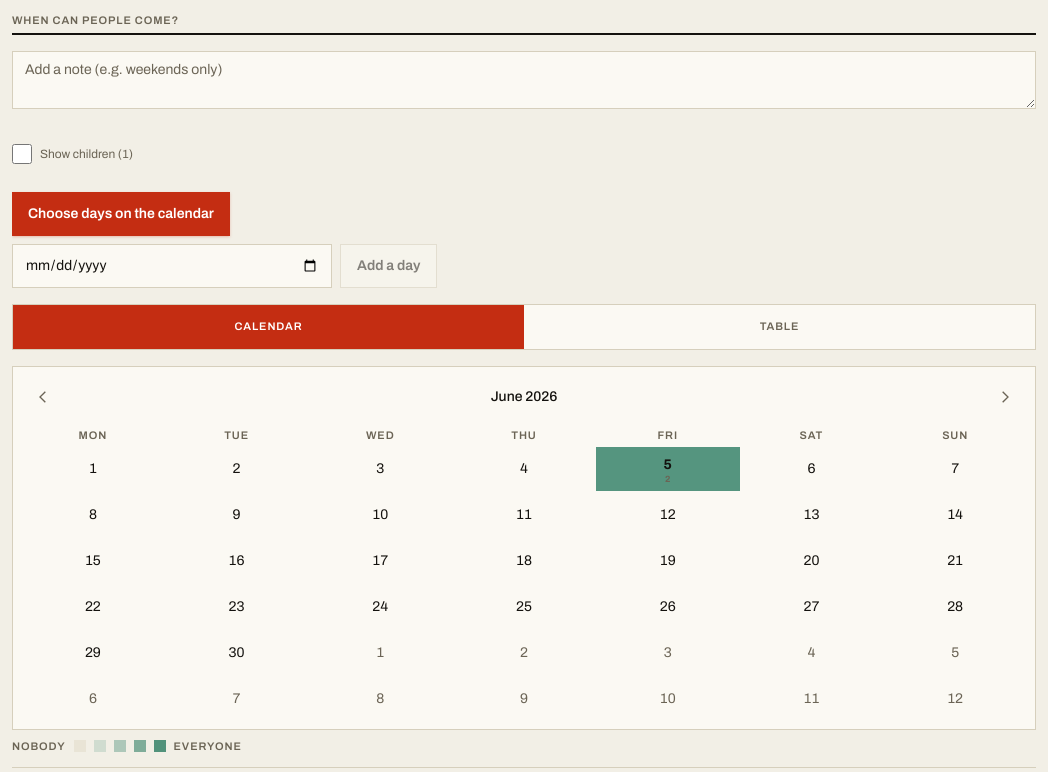
Scenario: dog participants › keeps the dog out of the availability matrix even when children are shown
Note: The matrix with the names lives in the table view.
What coordinates should you click on to do the following:
click the button "Table"
I would click on:
 (780, 326)
Its box is [524,304,1035,348].
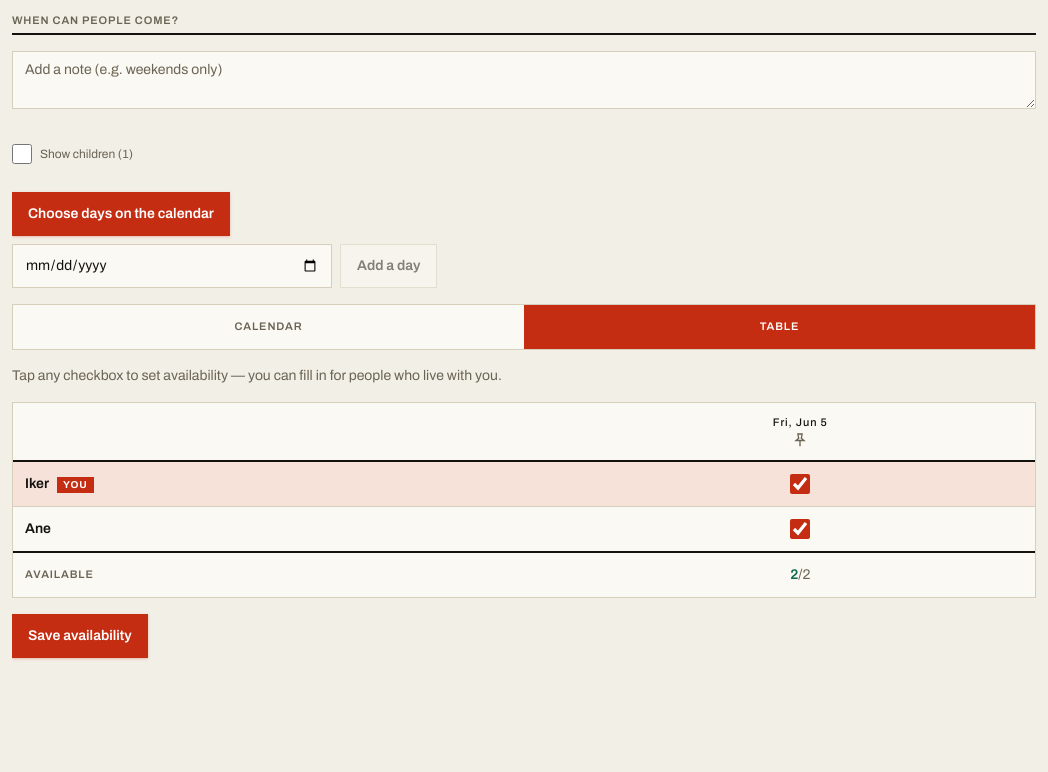
Check: the text "Nora" is not shown
Check: the text "Iker" is shown, box [25,476,49,491]
What coordinates should you click on to do the following:
click the checkbox labelled "Show children (1)"
I would click on:
 (22, 154)
Its box is [12,144,32,164].
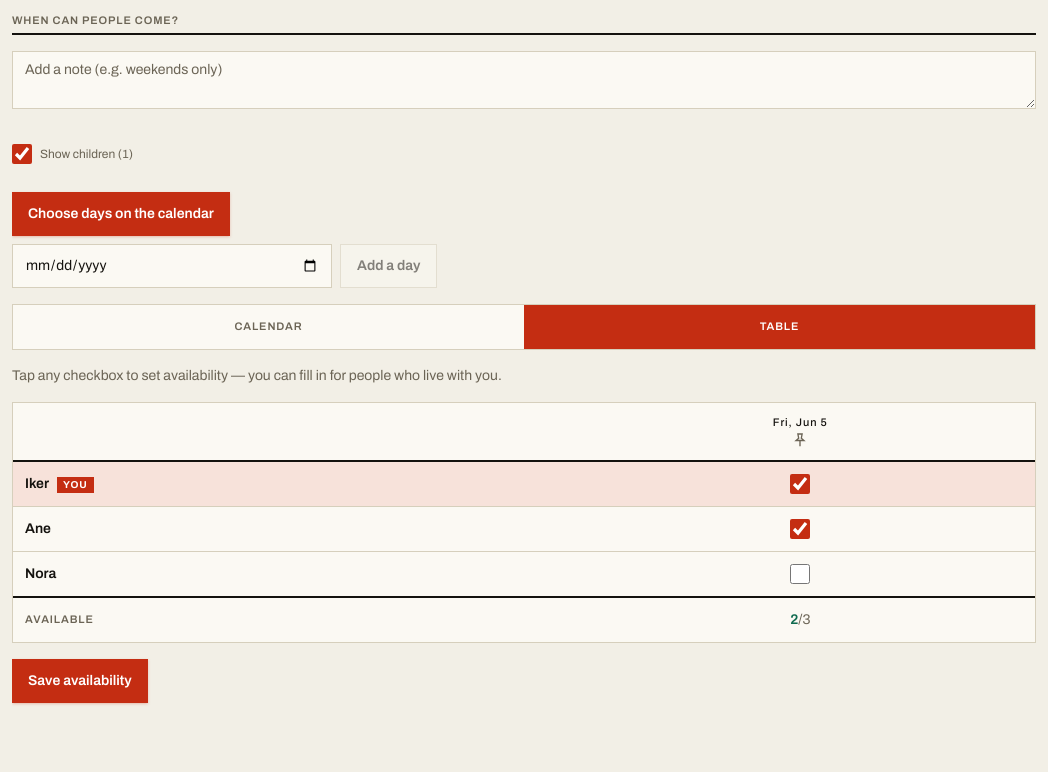
Check: the text "Nora" is shown, box [13,552,566,597]
